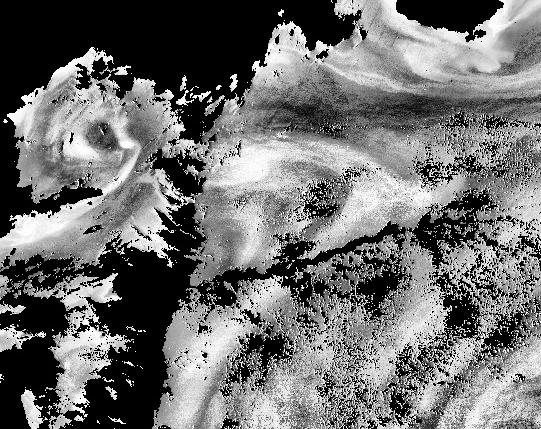CE: (35, 80, 157, 182)
